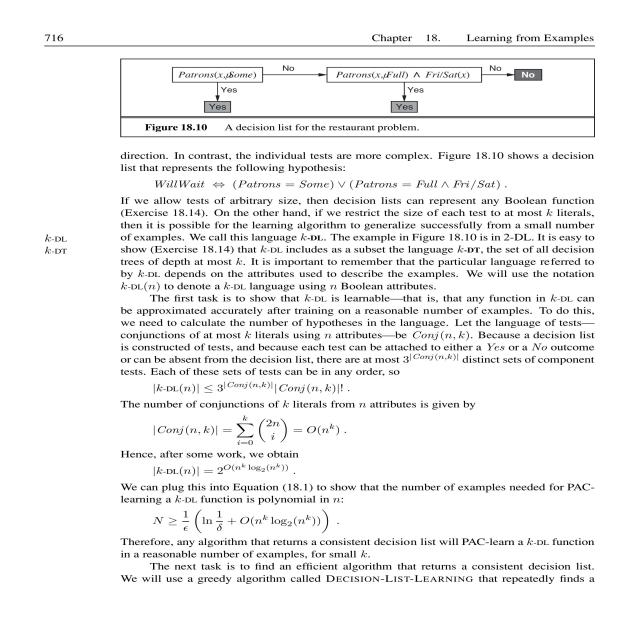diagram: (120, 56, 612, 139)
